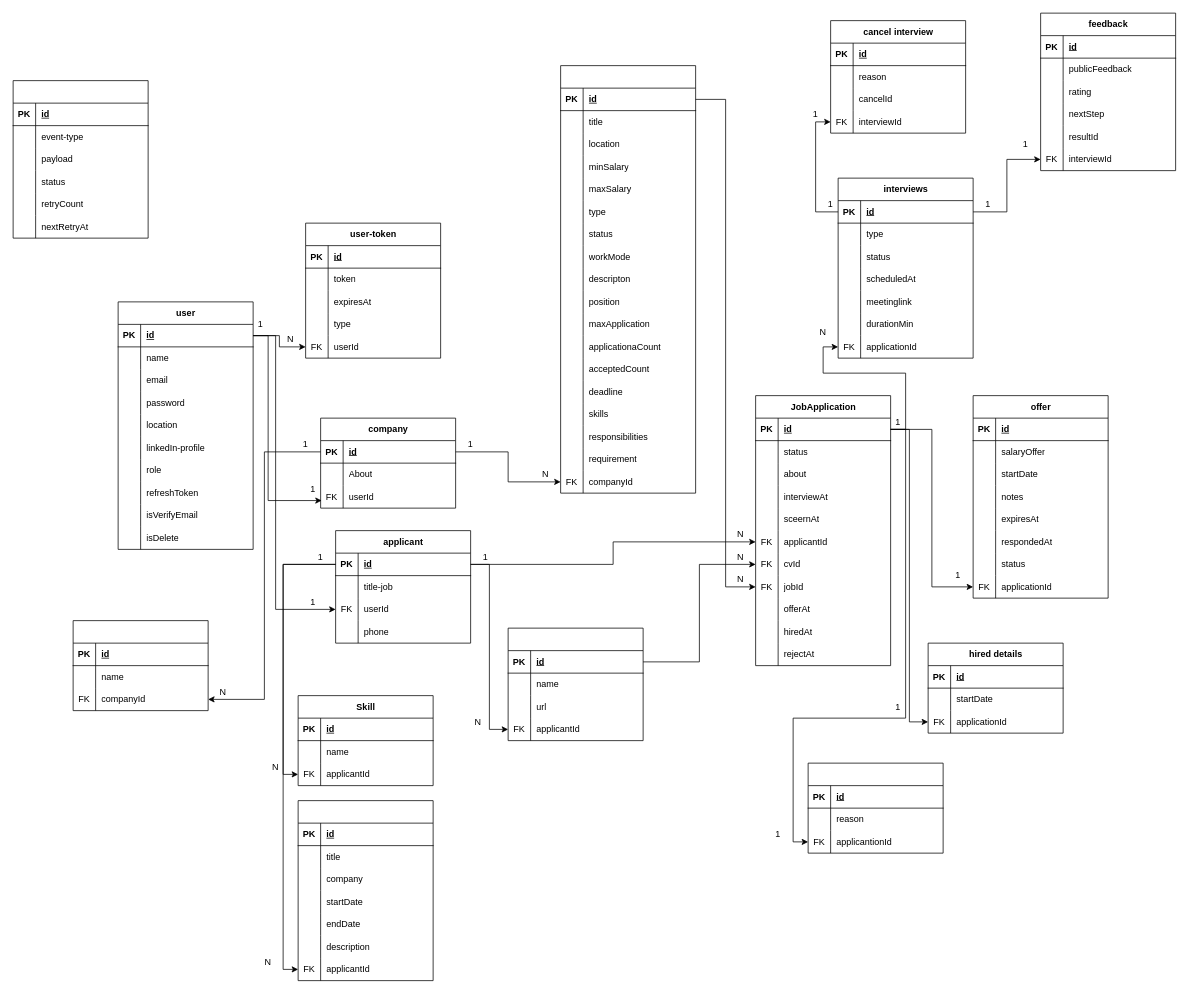
The diagram is 1189 pixels wide and 994 high, and some of its shapes have lost their labels. The shapes that lost their labels are listed below. From the top down, each one's box as (x1, y1, x2, y2) in pixels, then its label:
(12, 80, 148, 238): outbox
(560, 65, 696, 493): Job
(72, 620, 208, 711): specialization
(507, 627, 643, 741): CV
(807, 762, 943, 853): Reject
(297, 800, 433, 981): experience
